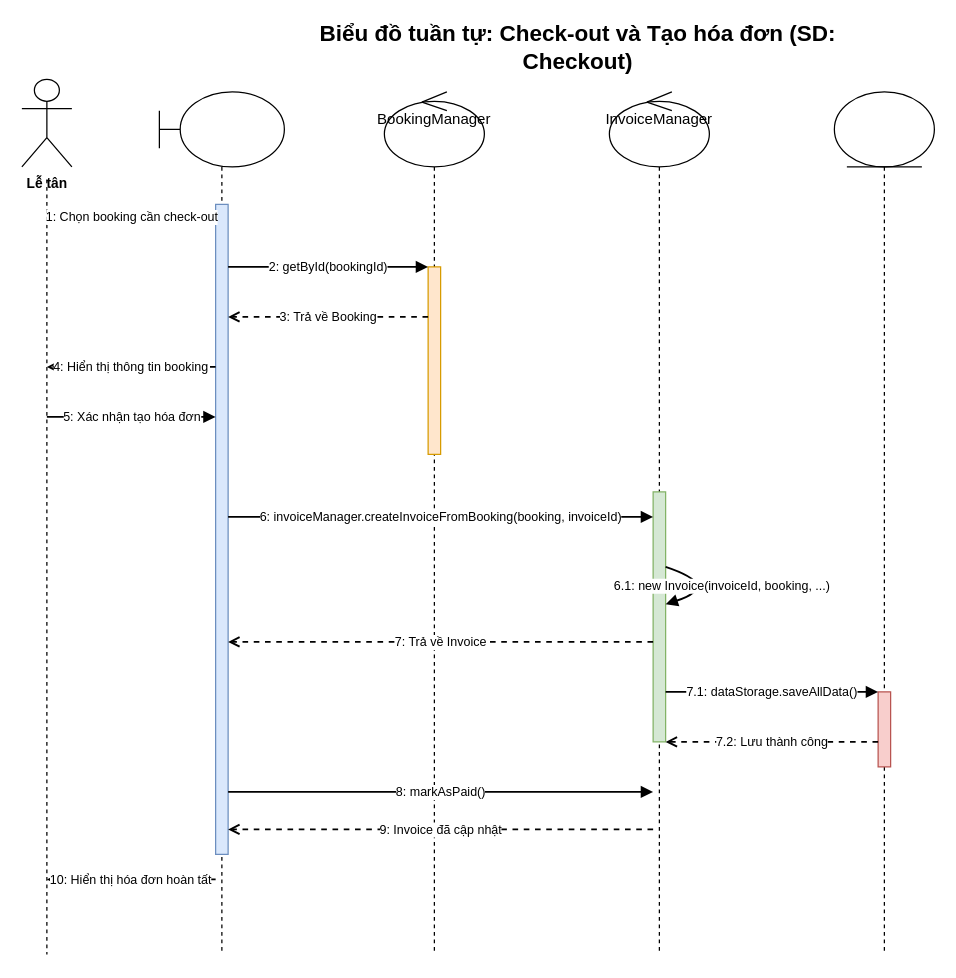
Image size: 956x978. Some labels were removed from this diagram. The shapes that lost their labels are listed below. From the top down, each one's centre as x and y in pixels, then its label:
the point at 221,129: InvoicePanel
the point at 883,129: DataStorage
